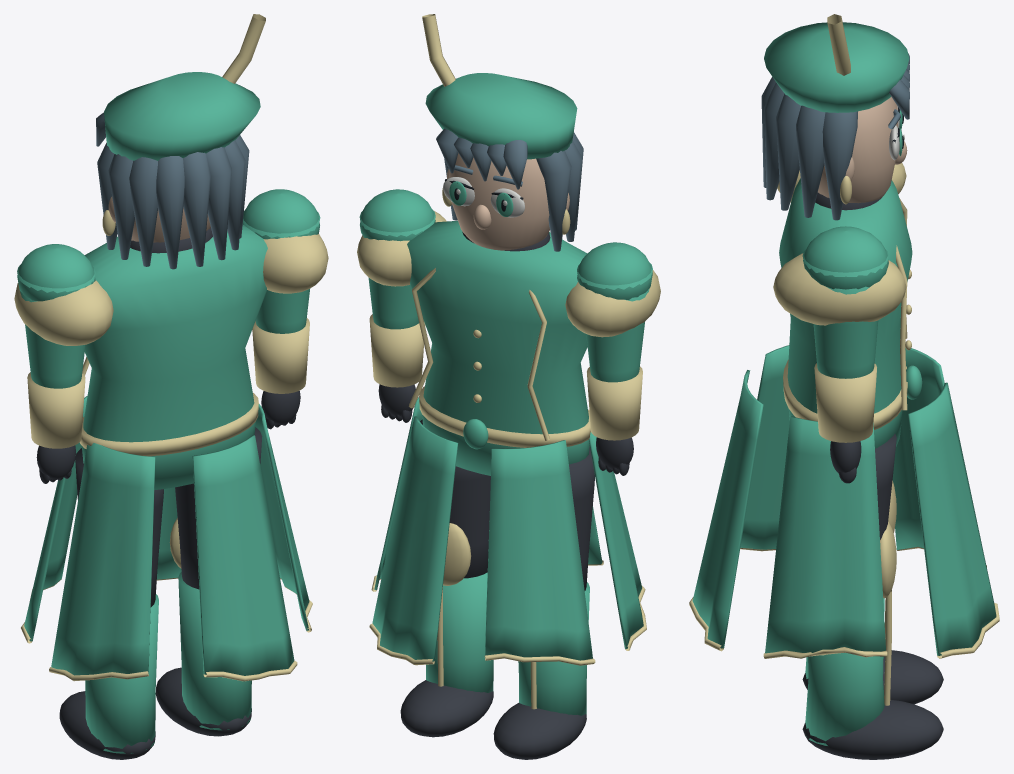
Rendered from hero-zephyr.glb.
3 renders of one model, left to right at view 1: azimuth 30°, elevation 25°; view 2: azimuth 150°, elevation 25°; view 3: azimuth 270°, elevation 25°, orthographic. The views are drawn at different scales.
Parts seen in each view (by area): view 1: torso_Painted character, head_Painted character, armL_Painted character, armR_Painted character, legR_Painted character, legL_Painted character; view 2: torso_Painted character, head_Painted character, legR_Painted character, armL_Painted character, legL_Painted character, armR_Painted character; view 3: torso_Painted character, head_Painted character, legR_Painted character, armR_Painted character, legL_Painted character.
Boxes of the visible parts, x1,y1,x2,y2 form: torso_Painted character: (14,224,328,681); head_Painted character: (96,14,265,269); armL_Painted character: (17,244,95,483); armR_Painted character: (242,189,320,429); legR_Painted character: (155,427,262,736); legL_Painted character: (59,448,163,759); torso_Painted character: (357,210,660,665); head_Painted character: (422,14,583,251); legR_Painted character: (400,419,493,737); armL_Painted character: (577,242,652,475); legL_Painted character: (493,446,594,759); armR_Painted character: (359,189,435,422); torso_Painted character: (689,163,999,658); head_Painted character: (761,14,909,220); legR_Painted character: (802,433,943,759); armR_Painted character: (802,226,888,483); legL_Painted character: (802,480,943,704).
Bounding box in the file's own units: 0.91 × 2.13 × 0.7913.
